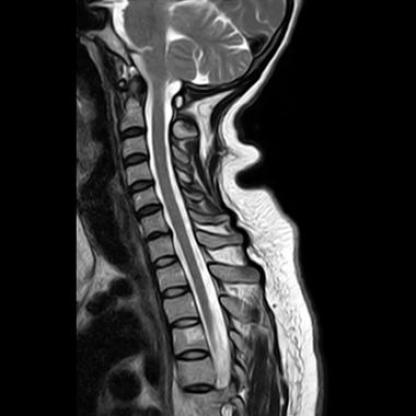Degenerative Disc Diseaserotation: (144, 229, 173, 241)
